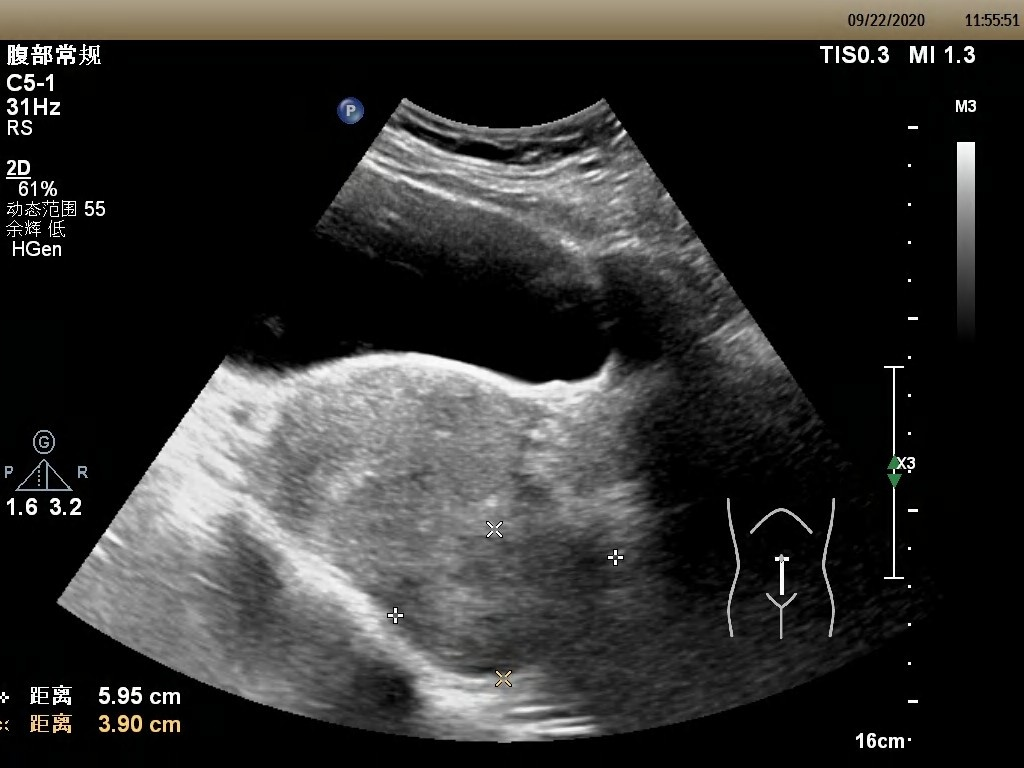肌瘤: (391, 548, 595, 665)
